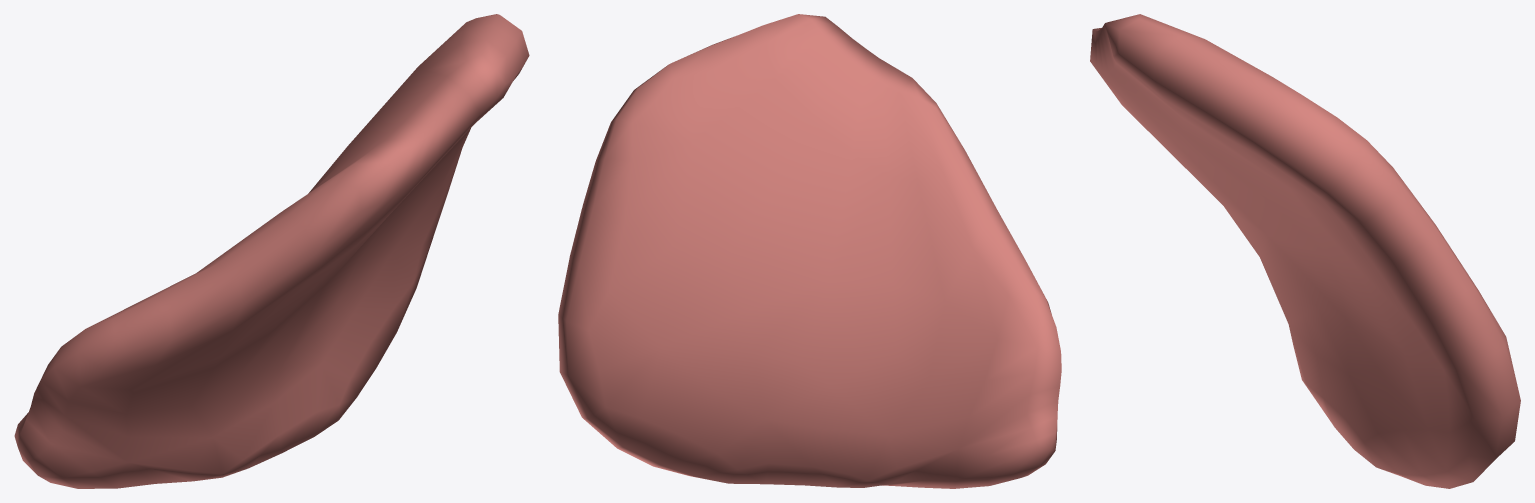
The picture shows the model from 3 angles, left to right: view 1: azimuth 30°, elevation 25°; view 2: azimuth 150°, elevation 25°; view 3: azimuth 270°, elevation 25°; orthographic projection. The views are drawn at different scales.
Parts seen in each view (by area): view 1: ZA_f8e0922086dc8f98; view 2: ZA_f8e0922086dc8f98; view 3: ZA_f8e0922086dc8f98.
Part boxes in pixels (bbox=[...]): ZA_f8e0922086dc8f98: bbox=[14, 14, 529, 488]; ZA_f8e0922086dc8f98: bbox=[558, 14, 1061, 488]; ZA_f8e0922086dc8f98: bbox=[1090, 14, 1520, 488].
Bounding box in the file's own units: 0.00388 × 0.00331 × 0.0027.
